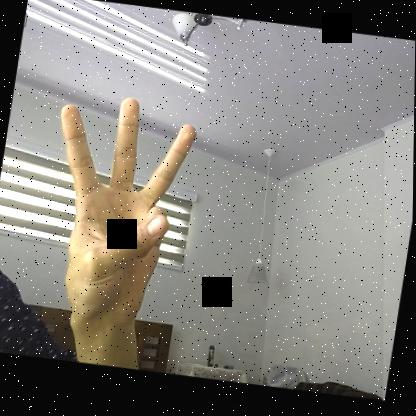W: (30, 86, 204, 331)
